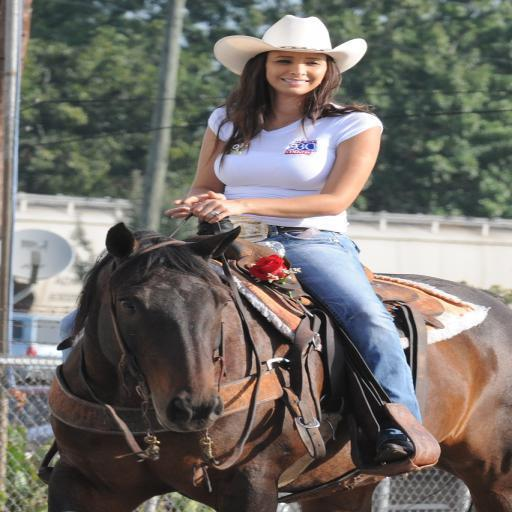horse: (46, 219, 512, 512)
